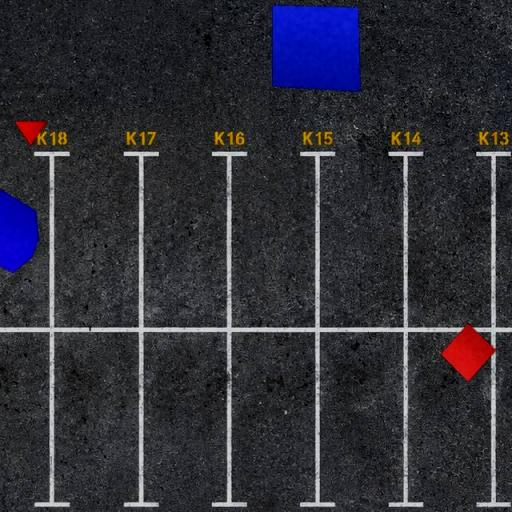BLUE_SQUARE: (271, 4, 362, 93)
RED_SQUARE: (440, 322, 498, 382)
